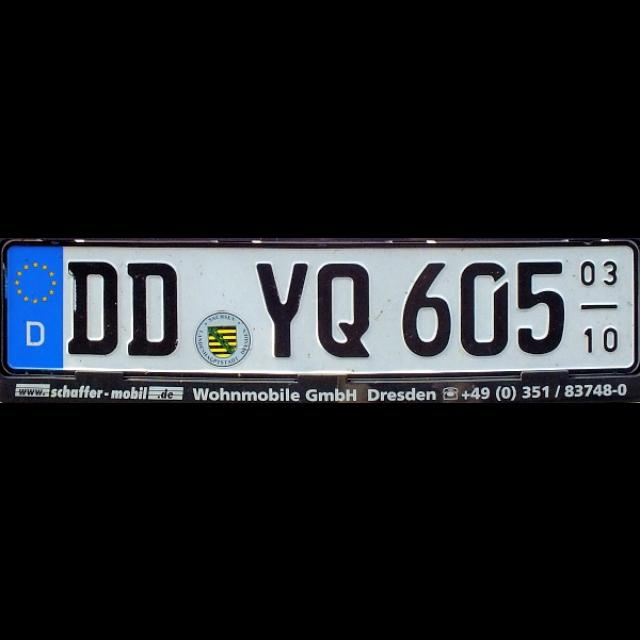d_license_plate: (6, 243, 634, 365)
